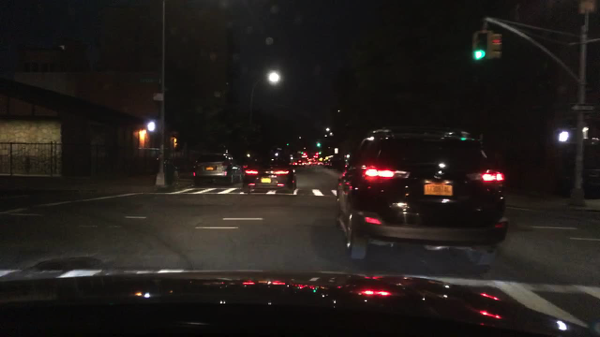car: (335, 128, 507, 265), (241, 154, 296, 196), (191, 150, 245, 186), (238, 162, 250, 174), (324, 160, 334, 168), (294, 160, 305, 167), (308, 158, 317, 166), (317, 160, 324, 166)
traffic light: (473, 28, 489, 59), (489, 33, 502, 58), (553, 129, 572, 143), (146, 118, 157, 134), (316, 141, 321, 149)
traffic sign: (569, 102, 596, 113), (137, 74, 159, 84), (151, 91, 163, 101), (274, 146, 284, 151), (333, 147, 337, 154)
